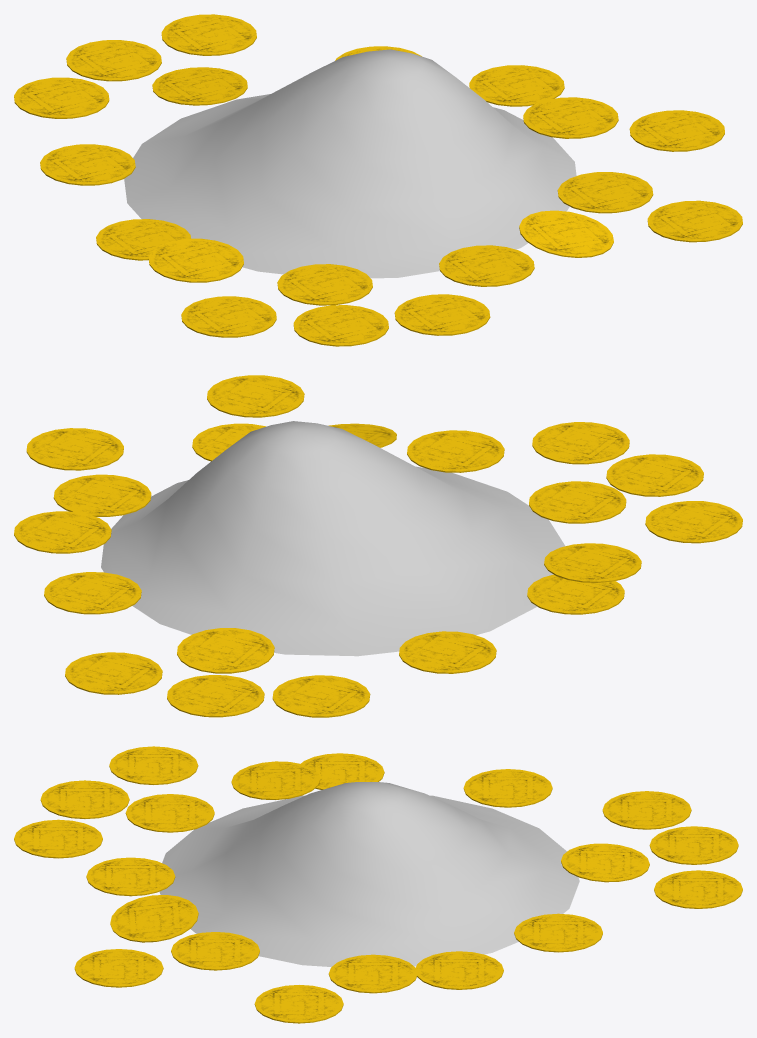
File: Pile.fbx
3 renders of one model, top to bottom at view 1: azimuth 30°, elevation 25°; view 2: azimuth 150°, elevation 25°; view 3: azimuth 270°, elevation 25°, orthographic. The views are drawn at different scales.
Parts seen in each view (by area): view 1: polySurface41, Low_Coin32, Low_Coin29, Low_Coin27, Low_Coin35, Low_Coin23, Low_Coin33, Low_Coin31, Low_Coin37, Low_Coin24, Low_Coin30, Low_Coin34 (+7 smaller); view 2: polySurface41, Low_Coin26, Low_Coin23, Low_Coin25, Low_Coin31, Low_Coin36, Low_Coin27, Low_Coin33, Low_Coin22, Low_Coin30, Low_Coin34, Low_Coin35 (+8 smaller); view 3: polySurface41, Low_Coin32, Low_Coin25, Low_Coin24, Low_Coin36, Low_Coin23, Low_Coin27, Low_Coin30, Low_Coin33, Low_Coin26, Low_Coin29, Low_Coin31 (+8 smaller).
Part boxes in pixels (box(x1,y1,x2,y2)): polySurface41: box(124, 49, 576, 278); Low_Coin32: box(519, 210, 613, 257); Low_Coin29: box(148, 238, 243, 282); Low_Coin27: box(40, 144, 135, 185); Low_Coin35: box(181, 296, 276, 337); Low_Coin23: box(161, 14, 256, 55); Low_Coin33: box(394, 294, 490, 335); Low_Coin31: box(439, 245, 534, 286); Low_Coin37: box(629, 110, 724, 151); Low_Coin24: box(66, 40, 161, 81); Low_Coin30: box(277, 264, 372, 305); Low_Coin34: box(293, 305, 388, 346); polySurface41: box(101, 421, 565, 656); Low_Coin26: box(177, 628, 274, 673); Low_Coin23: box(65, 652, 162, 694); Low_Coin25: box(272, 675, 370, 717); Low_Coin31: box(407, 430, 504, 472); Low_Coin36: box(207, 375, 304, 417); Low_Coin27: box(399, 631, 496, 673); Low_Coin33: box(532, 422, 629, 464); Low_Coin22: box(44, 572, 141, 614); Low_Coin30: box(529, 481, 626, 523); Low_Coin34: box(606, 454, 703, 496); Low_Coin35: box(645, 501, 742, 543); polySurface41: box(159, 782, 579, 966); Low_Coin32: box(110, 895, 198, 942); Low_Coin25: box(602, 791, 691, 829); Low_Coin24: box(649, 826, 738, 864); Low_Coin36: box(74, 949, 163, 987); Low_Coin23: box(654, 870, 742, 908); Low_Coin27: box(463, 769, 552, 807); Low_Coin30: box(125, 794, 214, 832); Low_Coin33: box(14, 819, 102, 858); Low_Coin26: box(561, 843, 649, 882); Low_Coin29: box(231, 761, 320, 799); Low_Coin31: box(86, 857, 175, 896).
Size of the model in its own units: 45.87 by 8.29 by 51.2.
